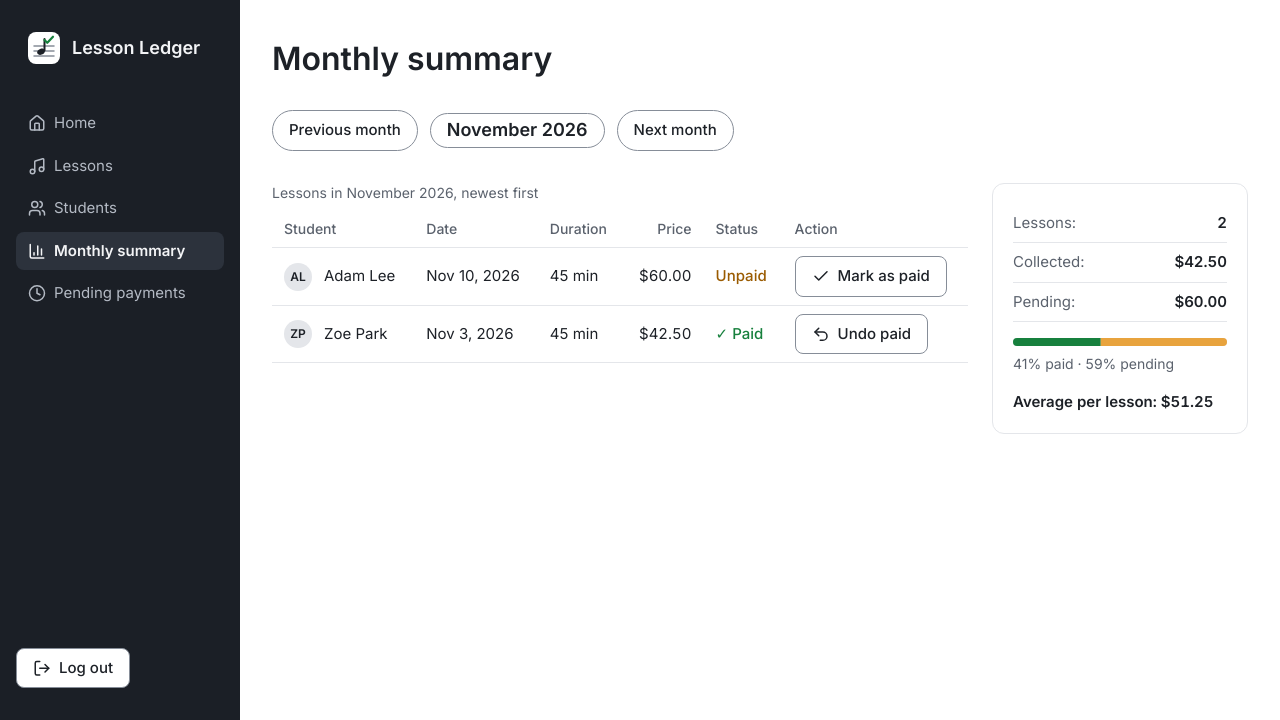
F08 AC-1 icons on page actions › AC-1a,c,d Mark as paid and Undo paid on /summary show their icons; Saving… shows none
Later steps or results of the test are not shown.
Check: the button with aria-label "Undo paid: Zoe Park, Nov 3, 2026" reads "Undo paid", box [795,314,928,354]
Step 1. Click the button with aria-label "Mark as paid: Adam Lee, Nov 10, 2026" → (871, 277), box [795,256,947,297]
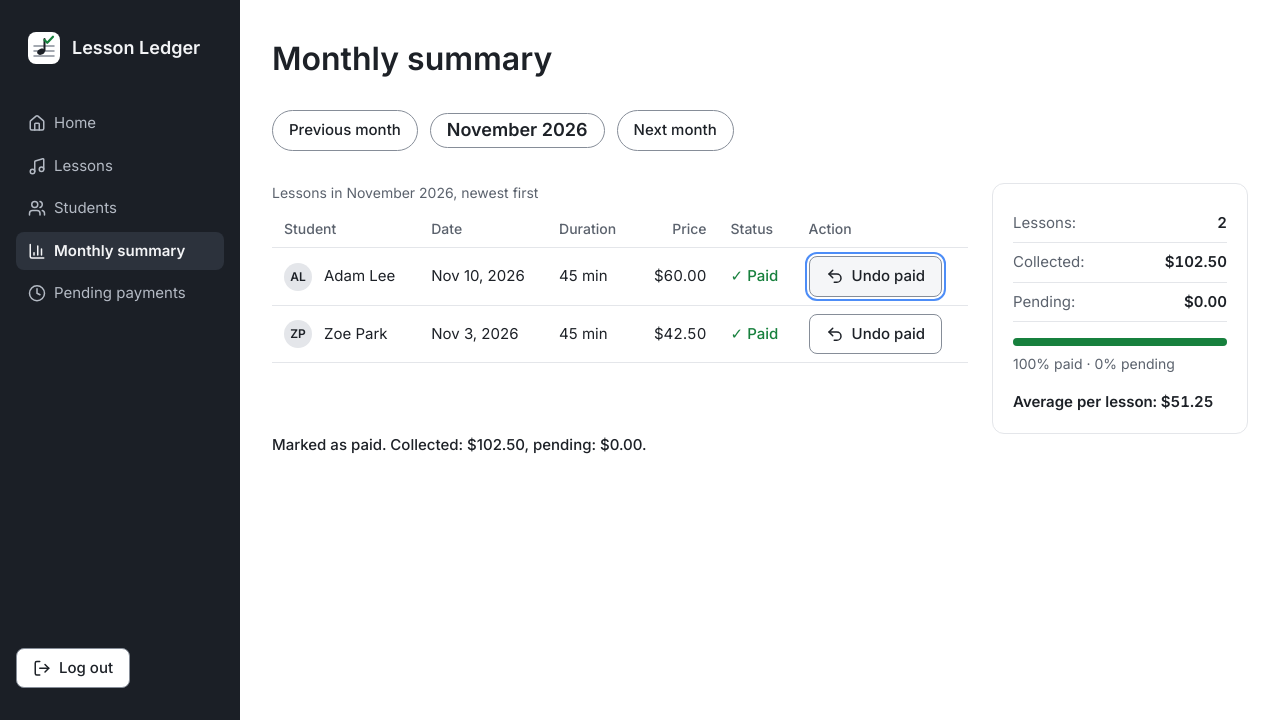
Check: the button with aria-label "Undo paid: Adam Lee, Nov 10, 2026" is enabled, box [809,256,942,297]
Check: the button with aria-label "Undo paid: Adam Lee, Nov 10, 2026" reads "Undo paid", box [809,256,942,297]
